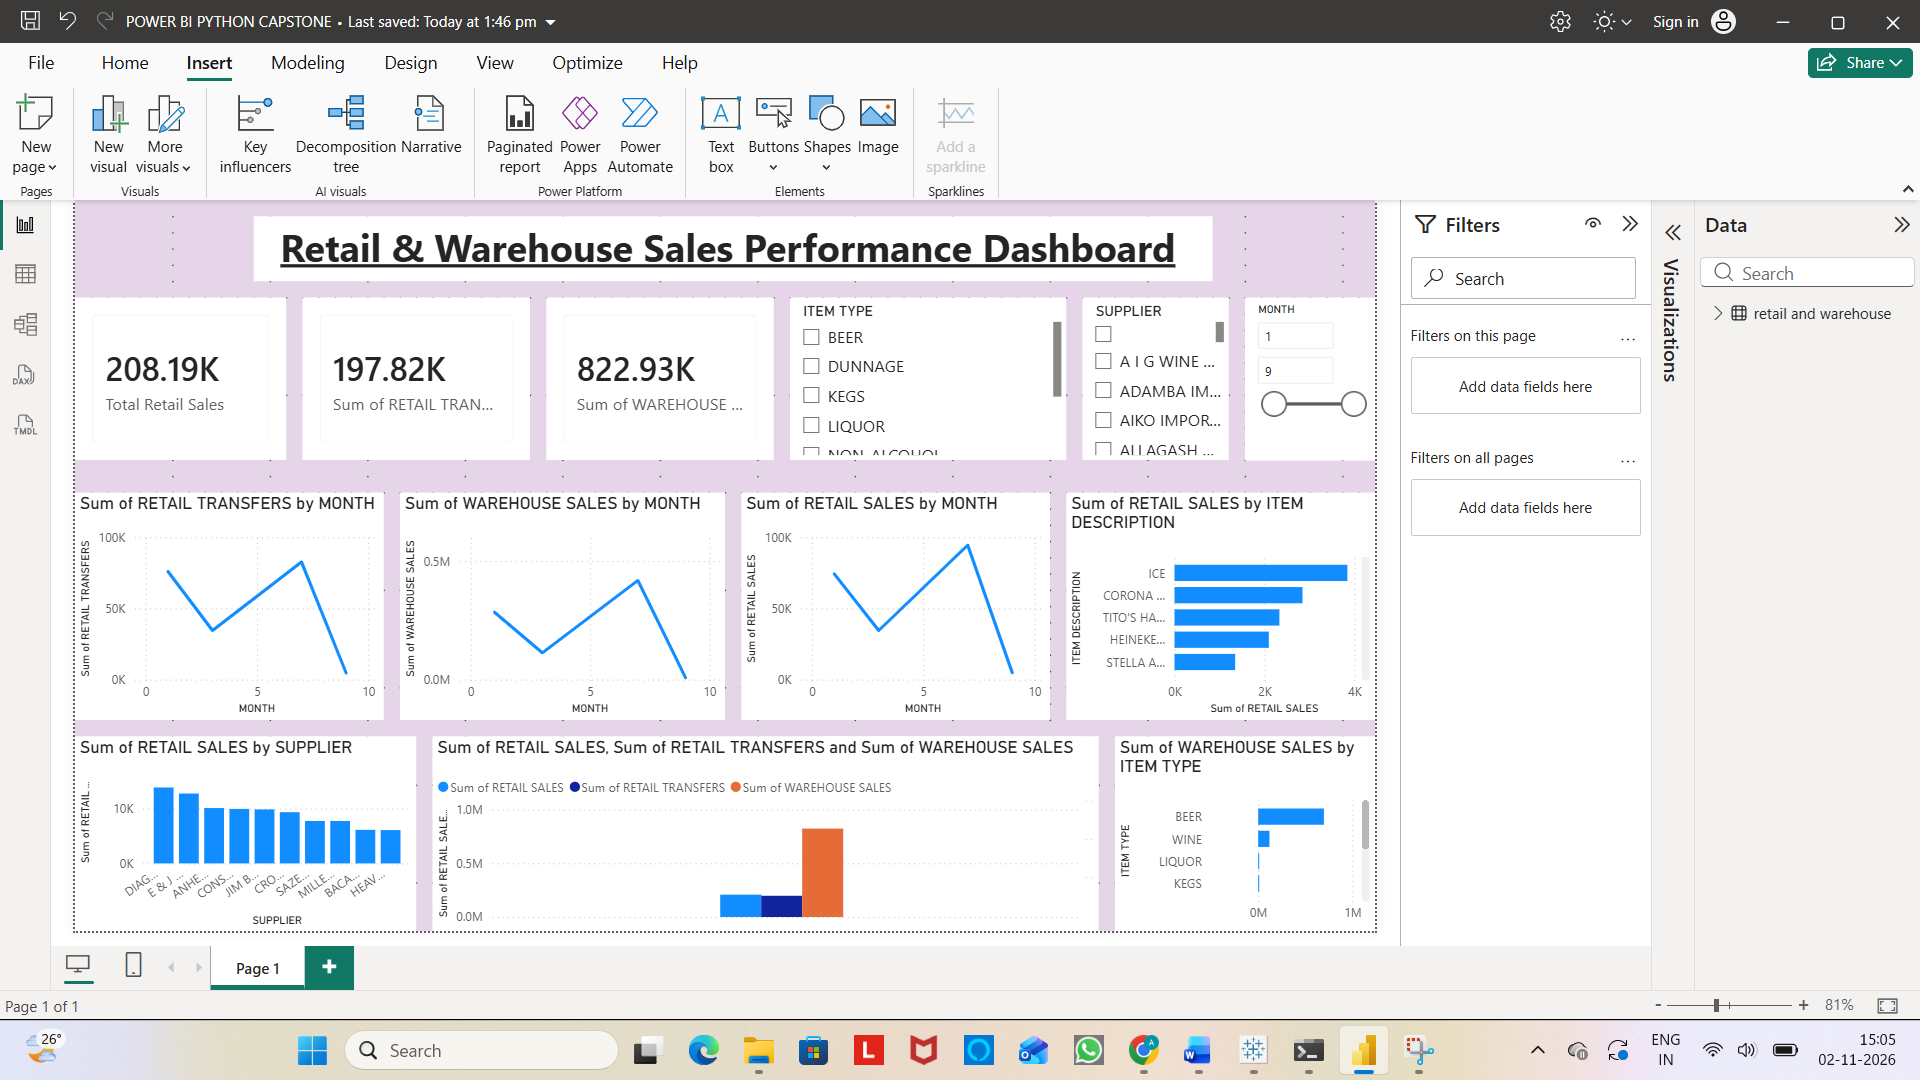

What the dashboard file says about the page in this screenshot:
{"tool":"powerbi","page":{"name":"Page 1","canvas":[1280,720],"ordinal":0},"visuals":[{"type":"cardVisual","fields":{"Data":["retail and warehouse.Total Retail Sales"]},"box":[0,96,208,160],"z":0},{"type":"cardVisual","fields":{"Data":["Sum(retail and warehouse.RETAIL TRANSFERS)"]},"box":[224,96,224,160],"z":1000},{"type":"cardVisual","fields":{"Data":["Sum(retail and warehouse.WAREHOUSE SALES)"]},"box":[464,96,224,160],"z":2000},{"type":"lineChart","fields":{"Category":["retail and warehouse.MONTH"],"Y":["Sum(retail and warehouse.RETAIL SALES)"]},"box":[656,288,304,224],"z":3000},{"type":"lineChart","fields":{"Category":["retail and warehouse.MONTH"],"Y":["Sum(retail and warehouse.RETAIL TRANSFERS)"]},"box":[0,288,304,224],"z":4000},{"type":"lineChart","fields":{"Category":["retail and warehouse.MONTH"],"Y":["Sum(retail and warehouse.WAREHOUSE SALES)"]},"box":[320,288,320,224],"z":5000},{"type":"clusteredColumnChart","fields":{"Category":["retail and warehouse.ITEM TYPE"],"Y":["Sum(retail and warehouse.RETAIL SALES)"]},"box":[736,528,272,192],"z":6000},{"type":"clusteredBarChart","fields":{"Category":["retail and warehouse.ITEM DESCRIPTION"],"Y":["Sum(retail and warehouse.RETAIL SALES)"]},"box":[976,288,304,224],"z":7000},{"type":"clusteredColumnChart","fields":{"Category":["retail and warehouse.SUPPLIER"],"Y":["Sum(retail and warehouse.RETAIL SALES)"]},"box":[0,528,336,192],"z":8000},{"type":"clusteredBarChart","fields":{"Category":["retail and warehouse.ITEM TYPE"],"Y":["Sum(retail and warehouse.WAREHOUSE SALES)"]},"box":[1024,528,256,192],"z":9000},{"type":"clusteredColumnChart","fields":{"Y":["Sum(retail and warehouse.RETAIL SALES)","Sum(retail and warehouse.RETAIL TRANSFERS)","Sum(retail and warehouse.WAREHOUSE SALES)"]},"box":[352,528,640,192],"z":10000},{"type":"slicer","fields":{"Values":["retail and warehouse.ITEM TYPE"]},"box":[704,96,272,160],"z":11000},{"type":"slicer","fields":{"Values":["retail and warehouse.SUPPLIER"]},"box":[992,96,144,160],"z":12000},{"type":"slicer","fields":{"Values":["retail and warehouse.MONTH"]},"box":[1152,96,128,160],"z":13000},{"type":"textbox","box":[176,16,944,64],"z":13001}]}

Visuals, with their boxes on the page's 1280x720 design canvas (x1, y1, x2, y2). These are canvas units, not pixel positions in the 1920x1080 screenshot, which may show the page scaled, cropped or inside an application window:
cardVisual - retail and warehouse.Total Retail Sales: <box>0,96,208,256</box>
cardVisual - Sum(retail and warehouse.RETAIL TRANSFERS): <box>224,96,448,256</box>
cardVisual - Sum(retail and warehouse.WAREHOUSE SALES): <box>464,96,688,256</box>
lineChart - retail and warehouse.MONTH x Sum(retail and warehouse.RETAIL SALES): <box>656,288,960,512</box>
lineChart - retail and warehouse.MONTH x Sum(retail and warehouse.RETAIL TRANSFERS): <box>0,288,304,512</box>
lineChart - retail and warehouse.MONTH x Sum(retail and warehouse.WAREHOUSE SALES): <box>320,288,640,512</box>
clusteredColumnChart - retail and warehouse.ITEM TYPE x Sum(retail and warehouse.RETAIL SALES): <box>736,528,1008,720</box>
clusteredBarChart - retail and warehouse.ITEM DESCRIPTION x Sum(retail and warehouse.RETAIL SALES): <box>976,288,1280,512</box>
clusteredColumnChart - retail and warehouse.SUPPLIER x Sum(retail and warehouse.RETAIL SALES): <box>0,528,336,720</box>
clusteredBarChart - retail and warehouse.ITEM TYPE x Sum(retail and warehouse.WAREHOUSE SALES): <box>1024,528,1280,720</box>
clusteredColumnChart - Sum(retail and warehouse.RETAIL SALES) x Sum(retail and warehouse.RETAIL TRANSFERS): <box>352,528,992,720</box>
slicer - retail and warehouse.ITEM TYPE: <box>704,96,976,256</box>
slicer - retail and warehouse.SUPPLIER: <box>992,96,1136,256</box>
slicer - retail and warehouse.MONTH: <box>1152,96,1280,256</box>
textbox: <box>176,16,1120,80</box>
